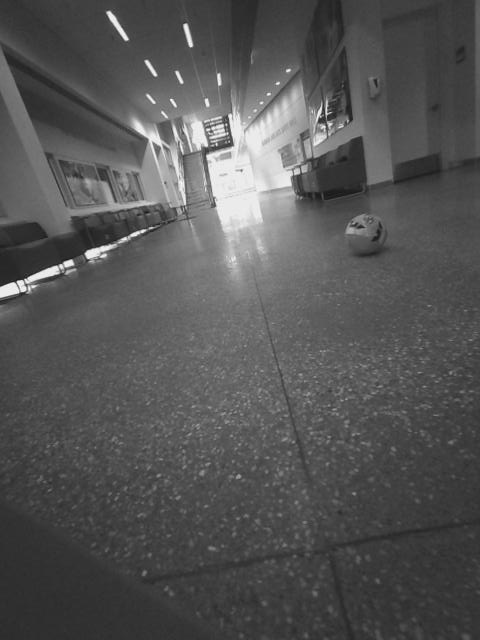ball: (338, 205, 399, 262)
